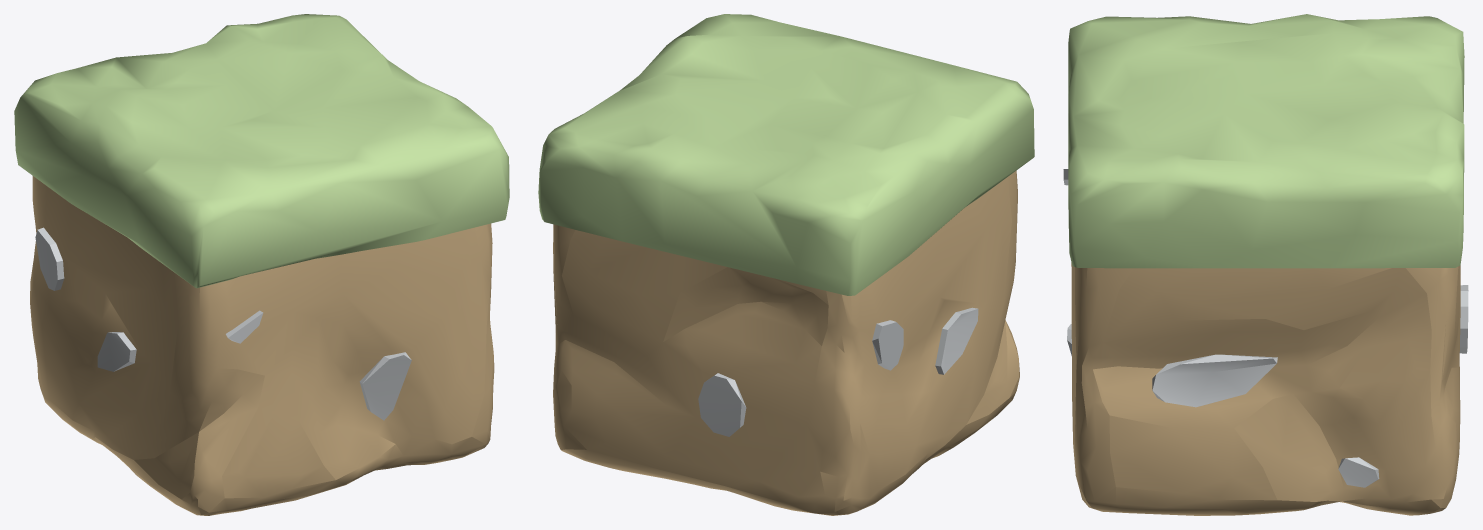
File: tiles_ground_1.fbx
The picture shows the model from 3 angles, left to right: view 1: azimuth 30°, elevation 25°; view 2: azimuth 150°, elevation 25°; view 3: azimuth 270°, elevation 25°; orthographic projection. The views are drawn at different scales.
Parts seen in each view (by area): view 1: Cube.002, Cube, Cube.004; view 2: Cube.002, Cube, Cube.004; view 3: Cube, Cube.002, Cube.004.
Part boxes in pixels (box(x1,y1,x2,y2)): Cube.002: box(30, 176, 494, 515); Cube: box(14, 14, 509, 288); Cube.004: box(35, 227, 411, 420); Cube.002: box(553, 170, 1019, 515); Cube: box(538, 14, 1034, 295); Cube.004: box(698, 307, 978, 436); Cube: box(1068, 14, 1464, 268); Cube.002: box(1071, 262, 1460, 515); Cube.004: box(1063, 169, 1468, 487).
Bounding box in the file's own units: 102 × 103 × 104.
